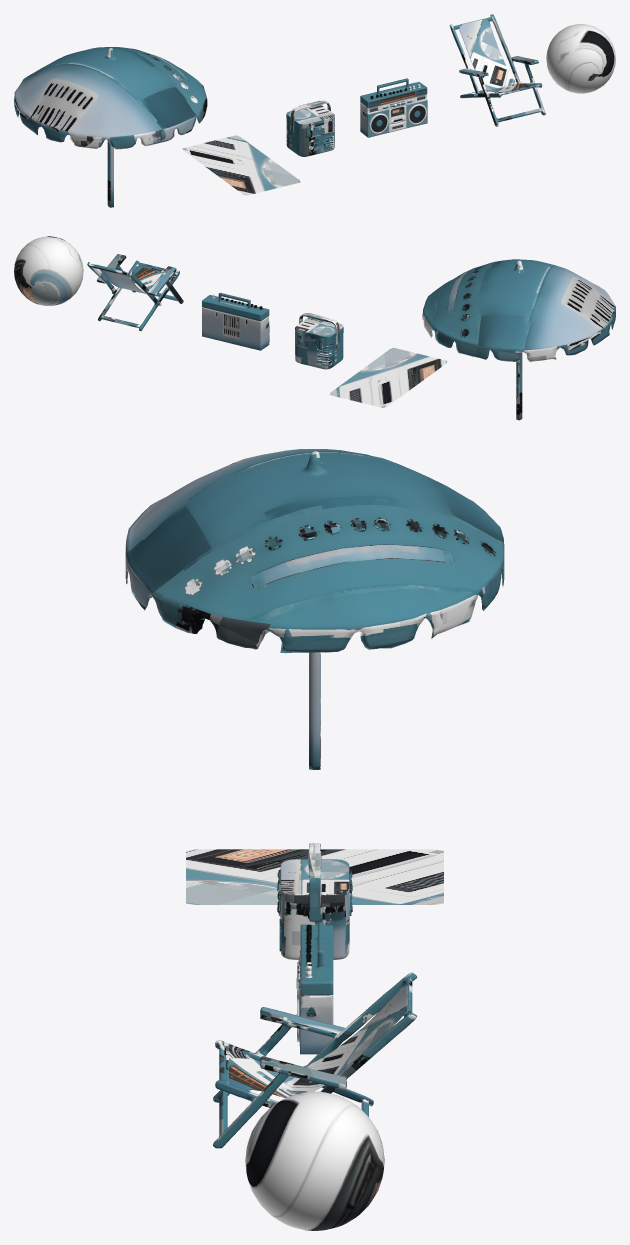
File: Beach kit Rodin.fbx
3 renders of one model, top to bottom at view 1: azimuth 30°, elevation 25°; view 2: azimuth 150°, elevation 25°; view 3: azimuth 270°, elevation 25°, orthographic. The views are drawn at different scales.
Visible parts, largest first — view 1: Beach umbrella, Beach chair, Beach ball, Beach towel, Beach boombox, Coolbox; view 2: Beach umbrella, Beach ball, Beach towel, Beach boombox, Beach chair, Coolbox; view 3: Beach umbrella, Beach ball, Beach chair, Beach towel, Coolbox, Beach boombox.
Boxes of the visible parts, left/top/right/bottom form: Beach umbrella: left=14, top=47, right=207, bottom=207; Beach chair: left=449, top=14, right=545, bottom=126; Beach ball: left=546, top=24, right=615, bottom=93; Beach towel: left=182, top=135, right=300, bottom=195; Beach boombox: left=360, top=78, right=427, bottom=137; Coolbox: left=286, top=100, right=334, bottom=156; Beach umbrella: left=422, top=259, right=615, bottom=420; Beach ball: left=14, top=236, right=83, bottom=305; Beach towel: left=329, top=348, right=447, bottom=407; Beach boombox: left=202, top=293, right=269, bottom=350; Beach chair: left=87, top=254, right=183, bottom=331; Coolbox: left=295, top=313, right=343, bottom=369; Beach umbrella: left=125, top=449, right=504, bottom=769; Beach ball: left=245, top=1091, right=384, bottom=1230; Beach chair: left=213, top=972, right=417, bottom=1148; Beach towel: left=186, top=849, right=443, bottom=904; Coolbox: left=277, top=843, right=352, bottom=959; Beach boombox: left=296, top=921, right=333, bottom=1054.
Size of the model in its own units: 1246 by 351 by 324.
Materials: 4 (4 with a texture image).
